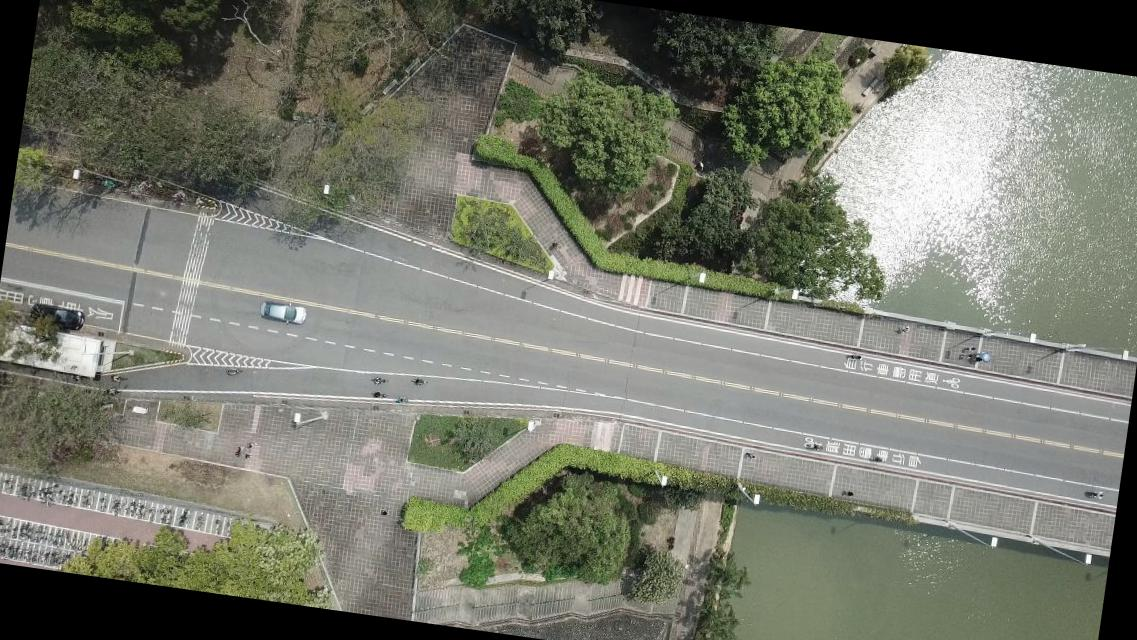vehicle: (28, 302, 86, 332), (258, 298, 307, 325)
